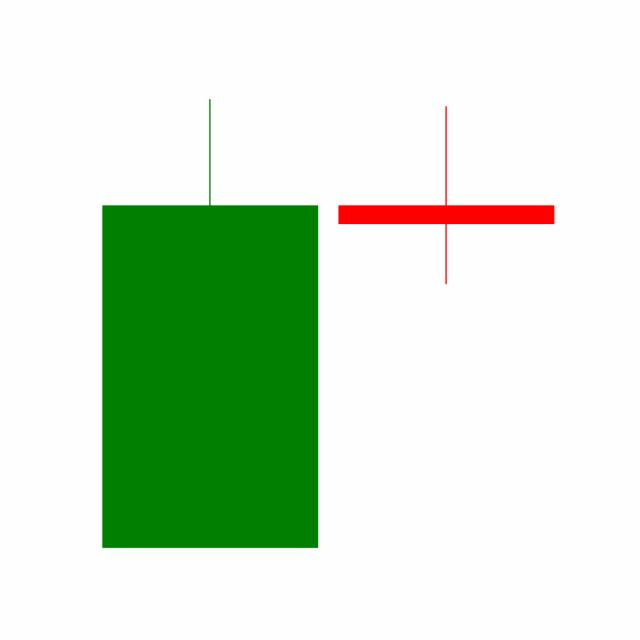Spinning Top: (327, 104, 565, 286)
